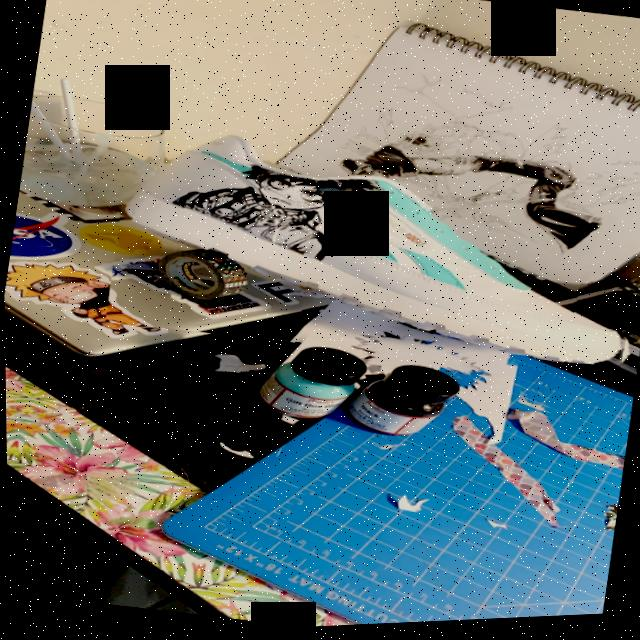shoe: (101, 97, 640, 406)
